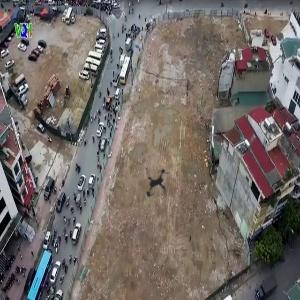drone: (126, 152, 190, 216)
